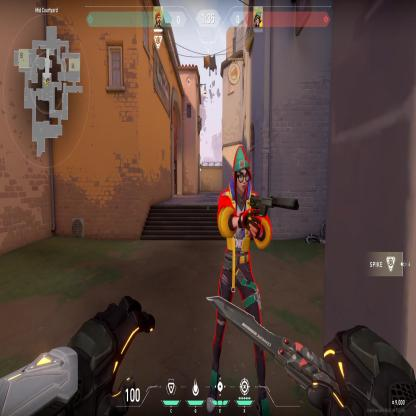enemy: (212, 143, 272, 260)
